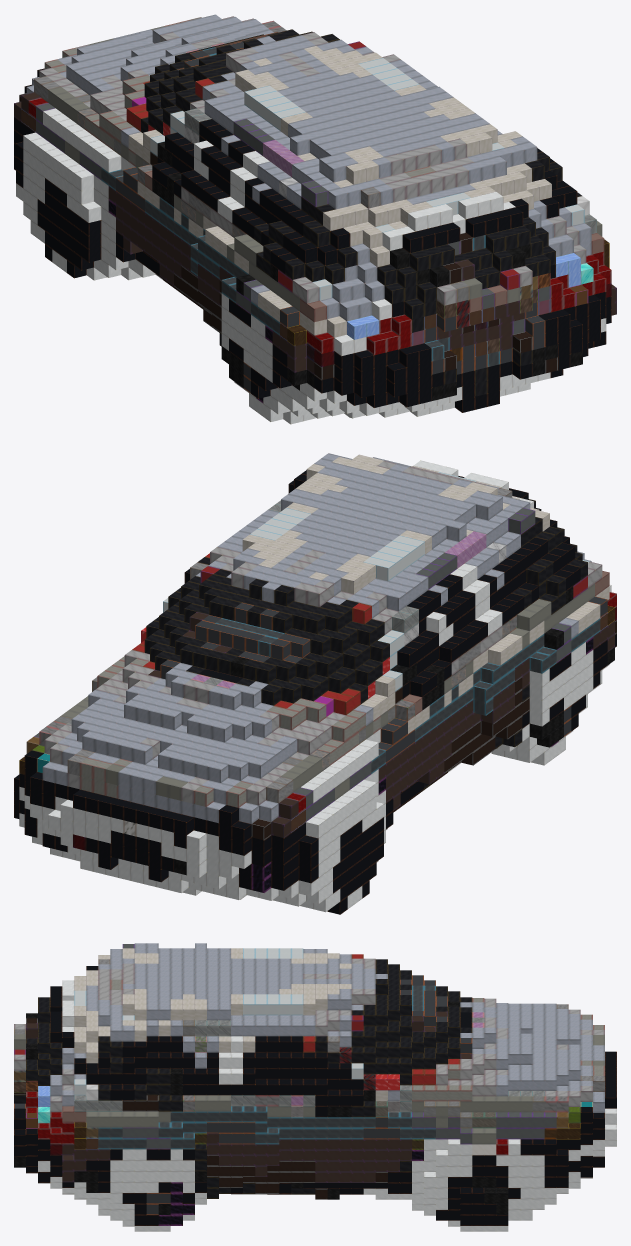
The picture shows the model from 3 angles, top to bottom: view 1: azimuth 30°, elevation 25°; view 2: azimuth 150°, elevation 25°; view 3: azimuth 270°, elevation 25°; orthographic projection. The views are drawn at different scales.
Size of the model in its own units: 25 by 18 by 50.
